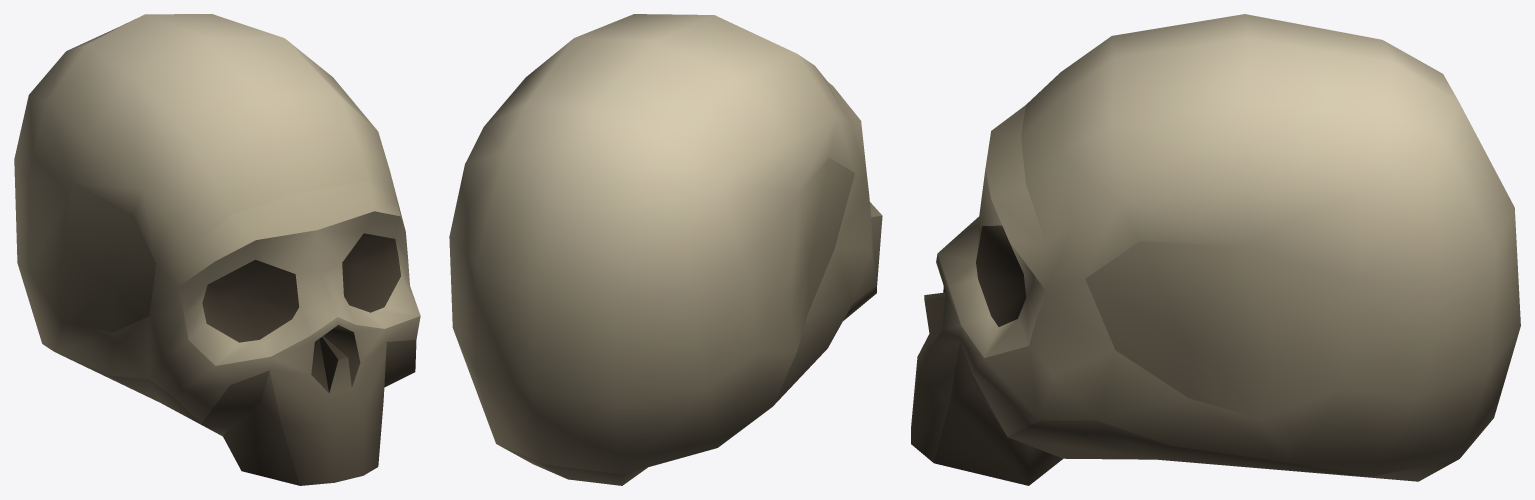
File: Skull_1A.fbx
The picture shows the model from 3 angles, left to right: view 1: azimuth 30°, elevation 25°; view 2: azimuth 150°, elevation 25°; view 3: azimuth 270°, elevation 25°; orthographic projection. The views are drawn at different scales.
Visible parts, largest first — view 1: Skull_1A; view 2: Skull_1A; view 3: Skull_1A.
Part boxes in pixels (x1,y1,x2,y2): Skull_1A: [14, 14, 420, 485]; Skull_1A: [449, 14, 882, 485]; Skull_1A: [911, 14, 1520, 485].
Size of the model in its own units: 0.127 by 0.1546 by 0.204.
